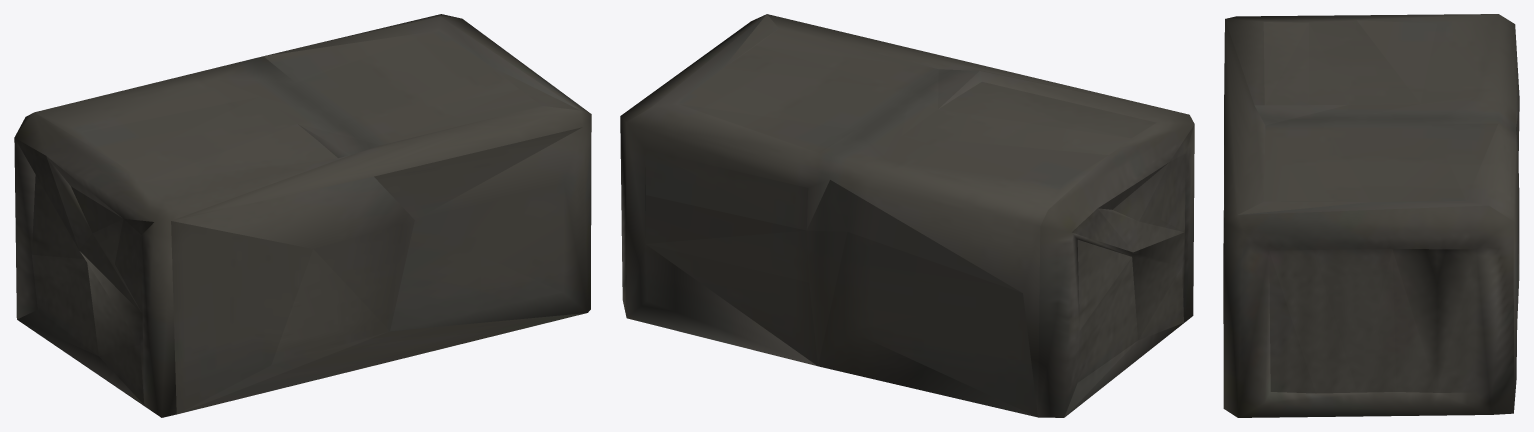
3 renders of one model, left to right at view 1: azimuth 30°, elevation 25°; view 2: azimuth 150°, elevation 25°; view 3: azimuth 270°, elevation 25°, orthographic.
Parts seen in each view (by area): view 1: tripo_node_ae94fd78.010; view 2: tripo_node_ae94fd78.010; view 3: tripo_node_ae94fd78.010.
Part boxes in pixels (x1=…): tripo_node_ae94fd78.010: x1=14, y1=14, x2=591, y2=417; tripo_node_ae94fd78.010: x1=620, y1=14, x2=1194, y2=417; tripo_node_ae94fd78.010: x1=1223, y1=14, x2=1519, y2=417.
Bounding box in the file's own units: 6.92 × 3.01 × 4.
